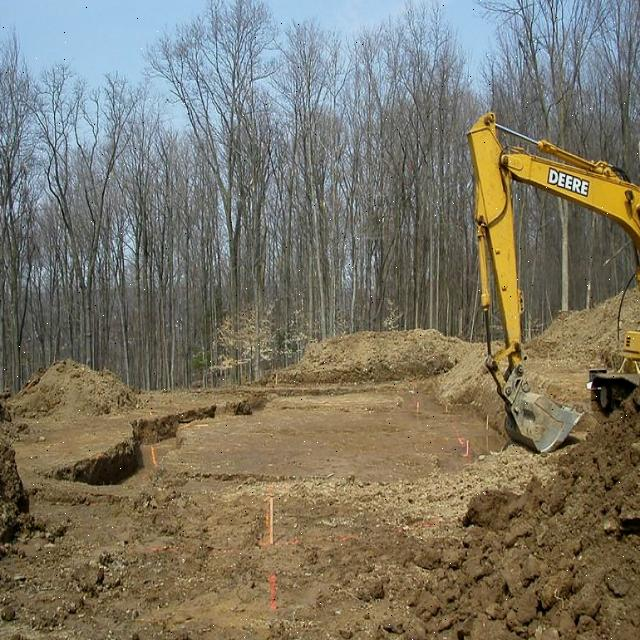Excavator: (467, 110, 640, 456)
